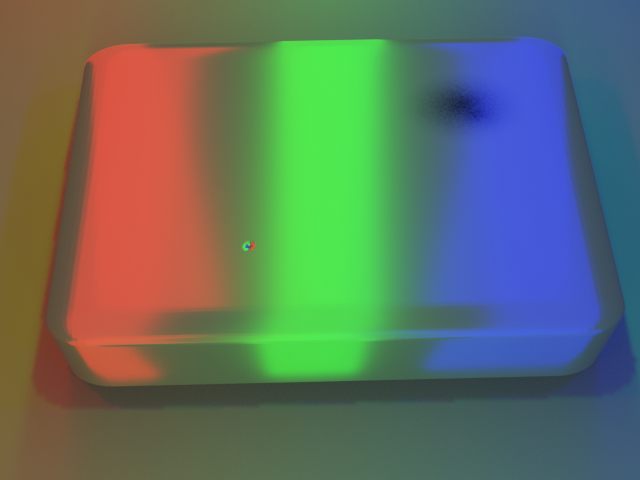dent: (227, 229, 259, 262)
stain: (383, 37, 574, 139)
